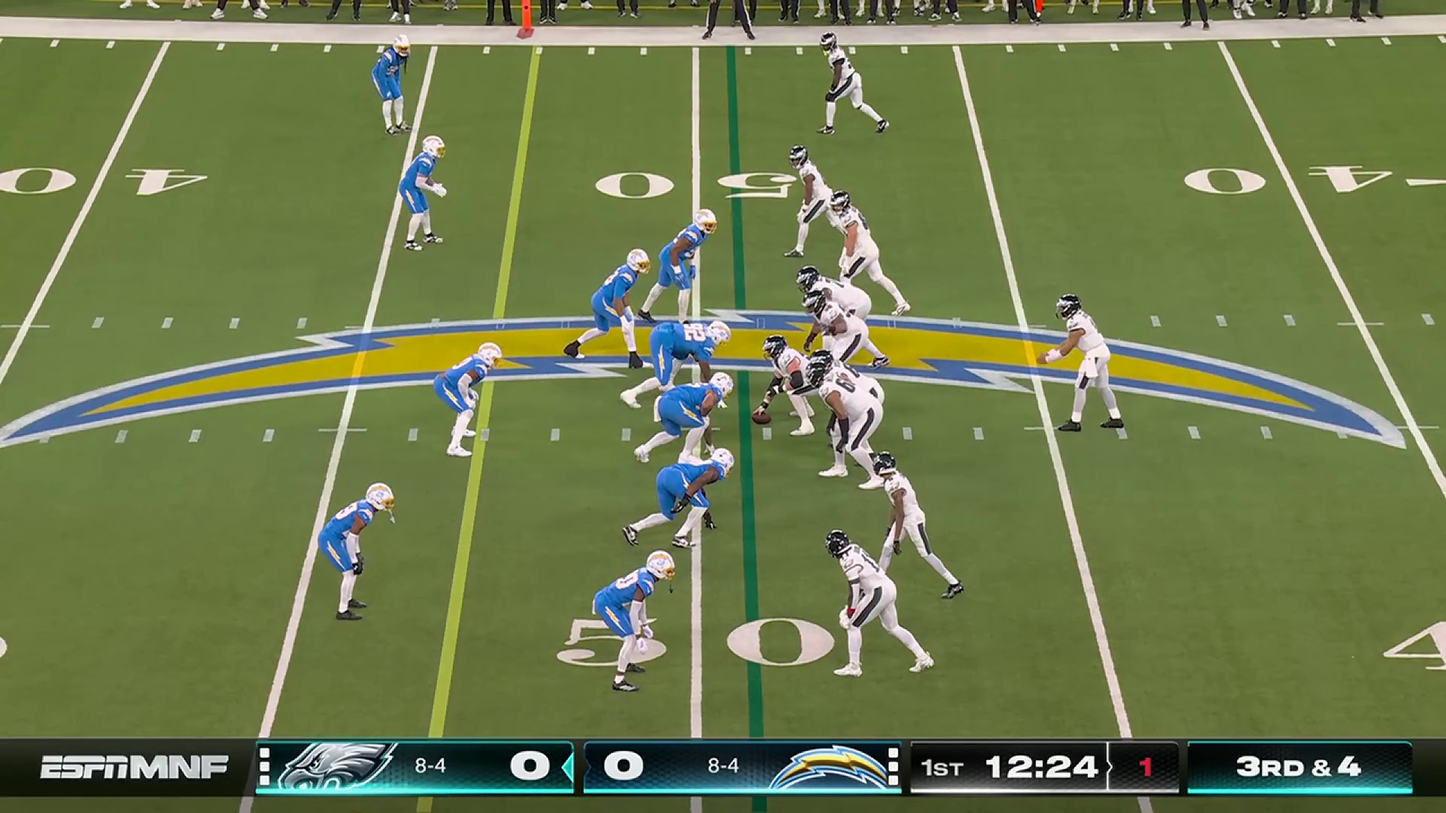ball: (751, 408, 778, 430)
player: (865, 444, 966, 615), (1037, 294, 1136, 460), (821, 532, 922, 681), (577, 548, 680, 693), (559, 253, 662, 385), (632, 442, 734, 575), (824, 188, 917, 328), (769, 143, 866, 270), (317, 481, 394, 623), (796, 348, 896, 451), (627, 367, 736, 459), (429, 348, 505, 479), (661, 208, 731, 343), (752, 333, 831, 440), (806, 371, 880, 482), (790, 272, 885, 356), (822, 37, 889, 153), (639, 313, 724, 399), (392, 128, 449, 246), (366, 37, 426, 145), (803, 290, 873, 380)
